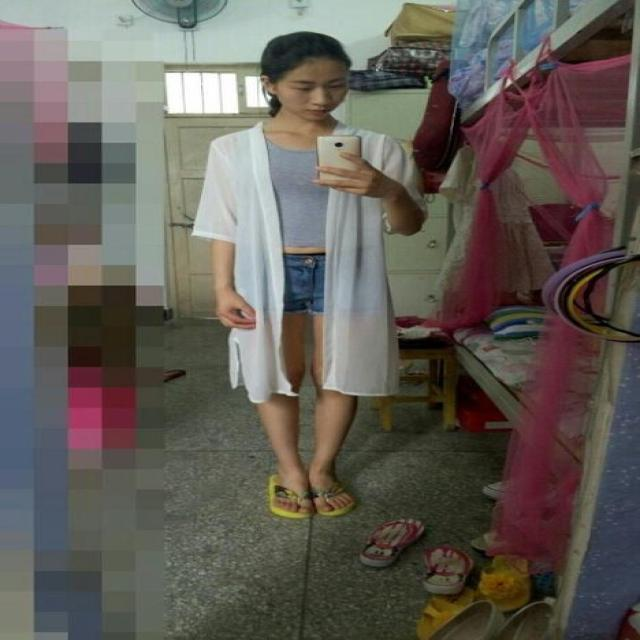shorts: (187, 233, 443, 359)
